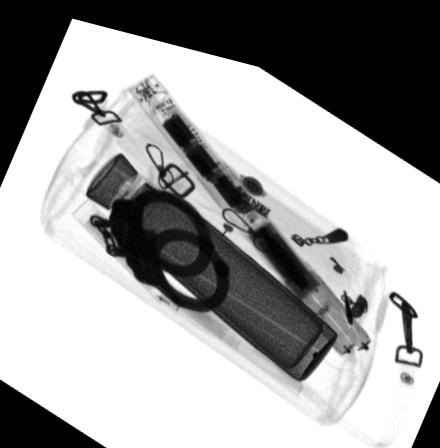Baton: (124, 64, 372, 337)
HandCuffs: (87, 177, 230, 302)
